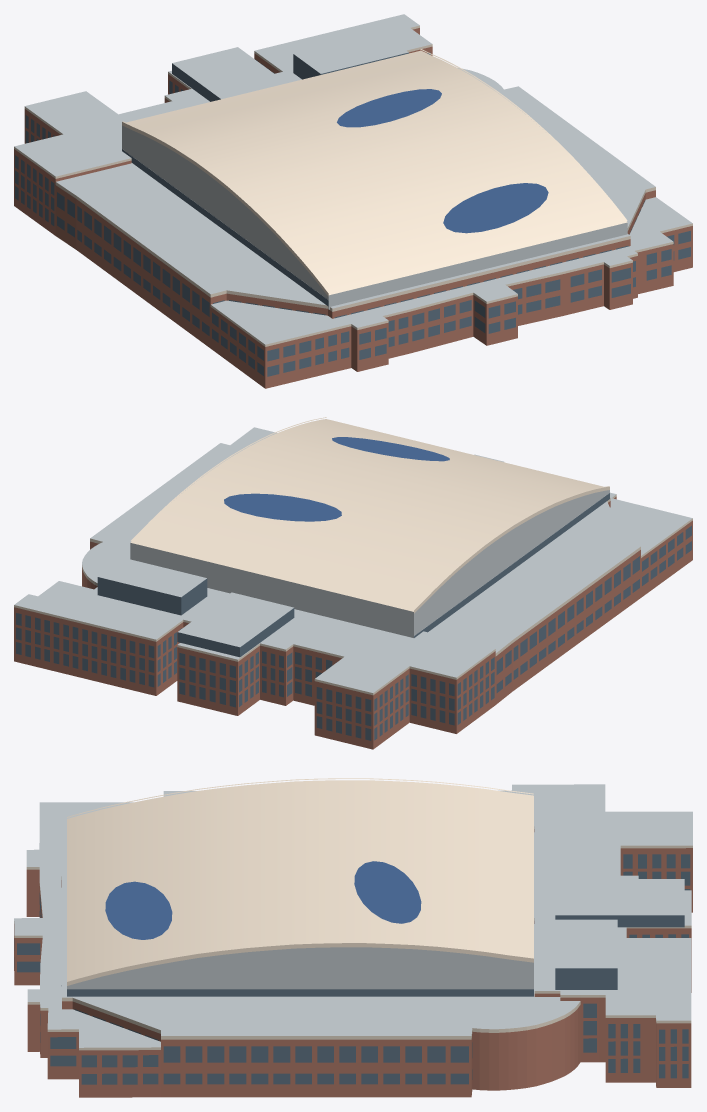
Rendered from det-ford-field.glb.
The picture shows the model from 3 angles, top to bottom: view 1: azimuth 30°, elevation 25°; view 2: azimuth 150°, elevation 25°; view 3: azimuth 270°, elevation 25°; orthographic projection. The views are drawn at different scales.
Parts seen in each view (by area): view 1: Ford Field; view 2: Ford Field; view 3: Ford Field.
Boxes of the visible parts, x1,y1,x2,y2 form: Ford Field: [14, 14, 692, 388]; Ford Field: [14, 417, 692, 749]; Ford Field: [14, 778, 692, 1097].
Size of the model in its own units: 243 by 53.3 by 284.
